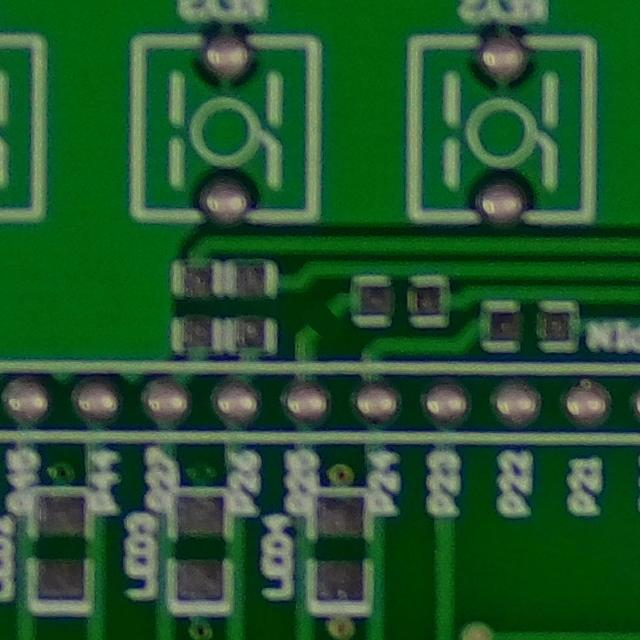open_circuit: (294, 297, 346, 343)
